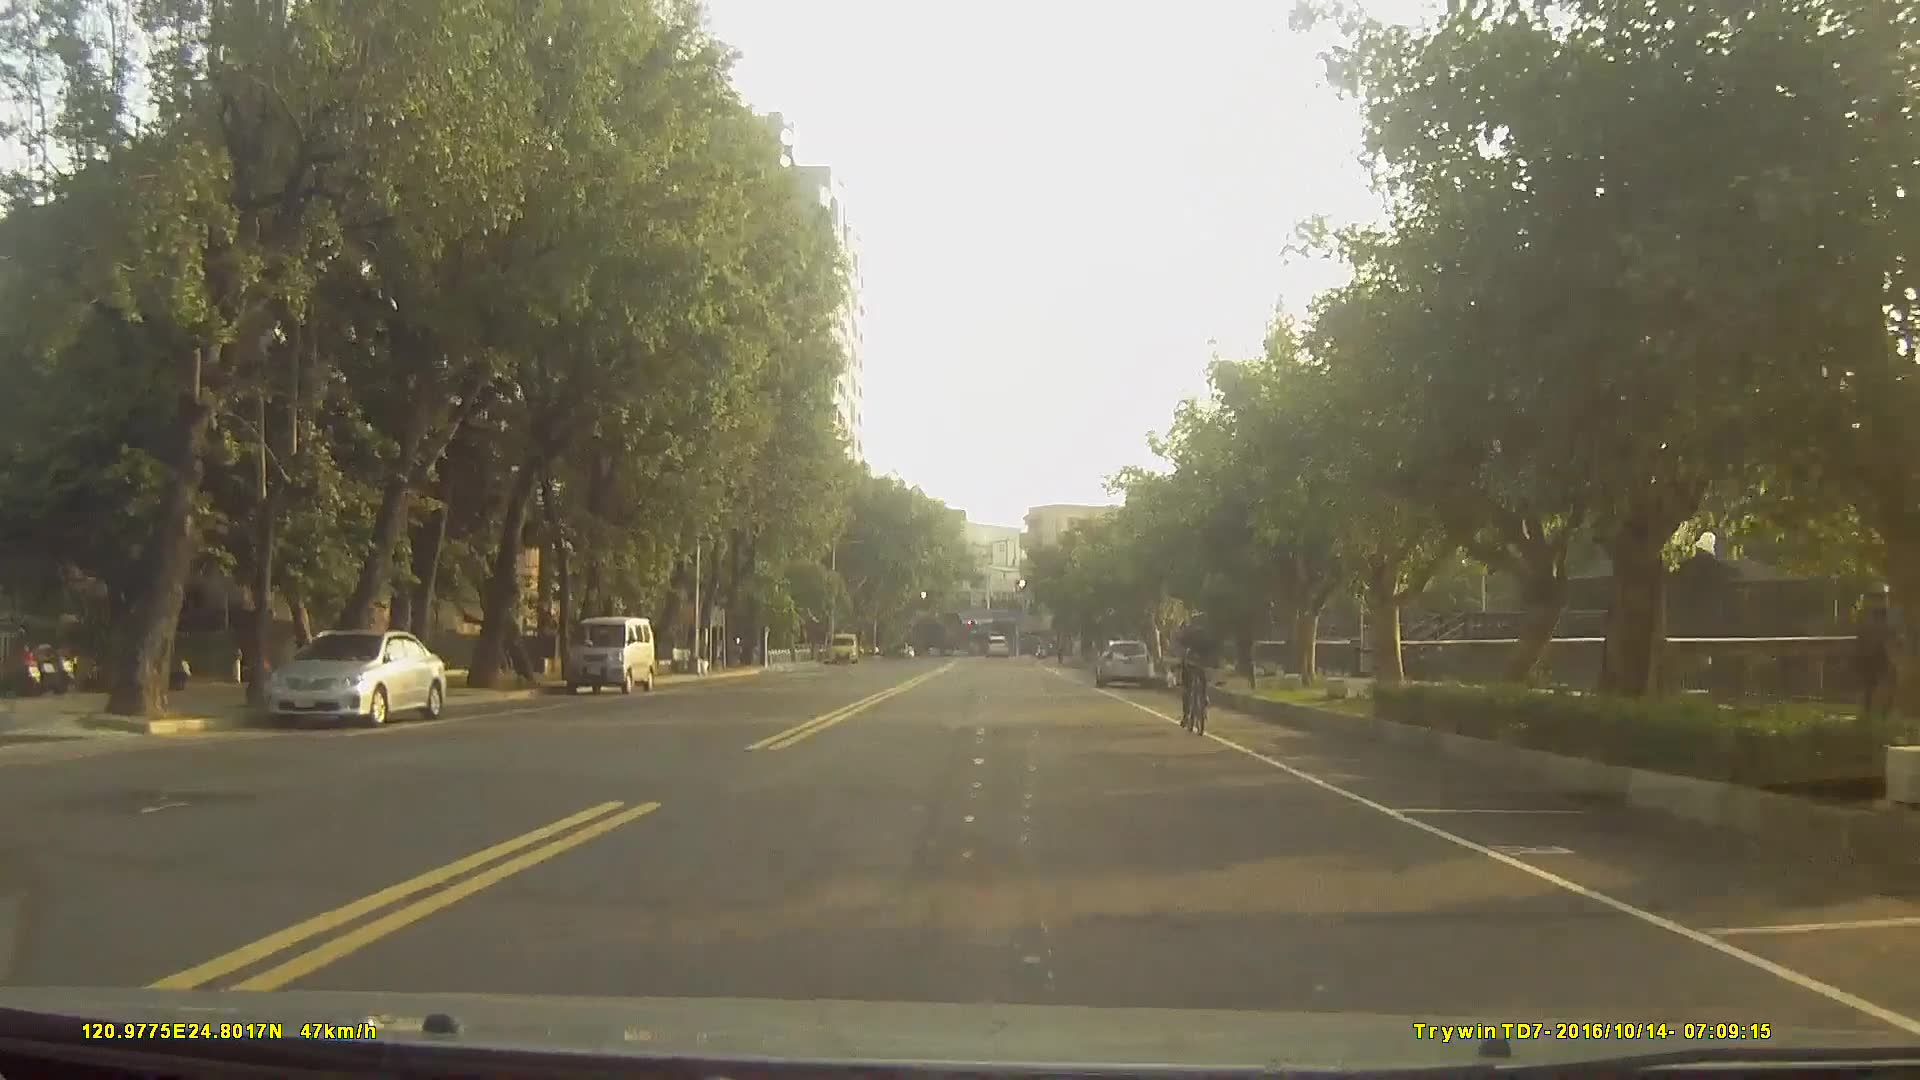rider: (1179, 609, 1218, 734)
vehicle: (262, 626, 450, 731), (563, 613, 656, 694), (1095, 640, 1159, 693), (983, 630, 1010, 658)
